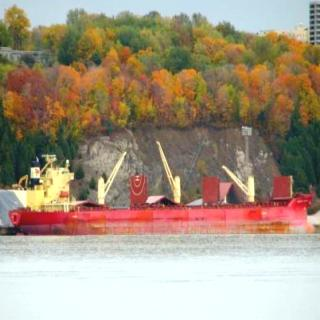Bulk Carrier: (2, 154, 320, 237)
